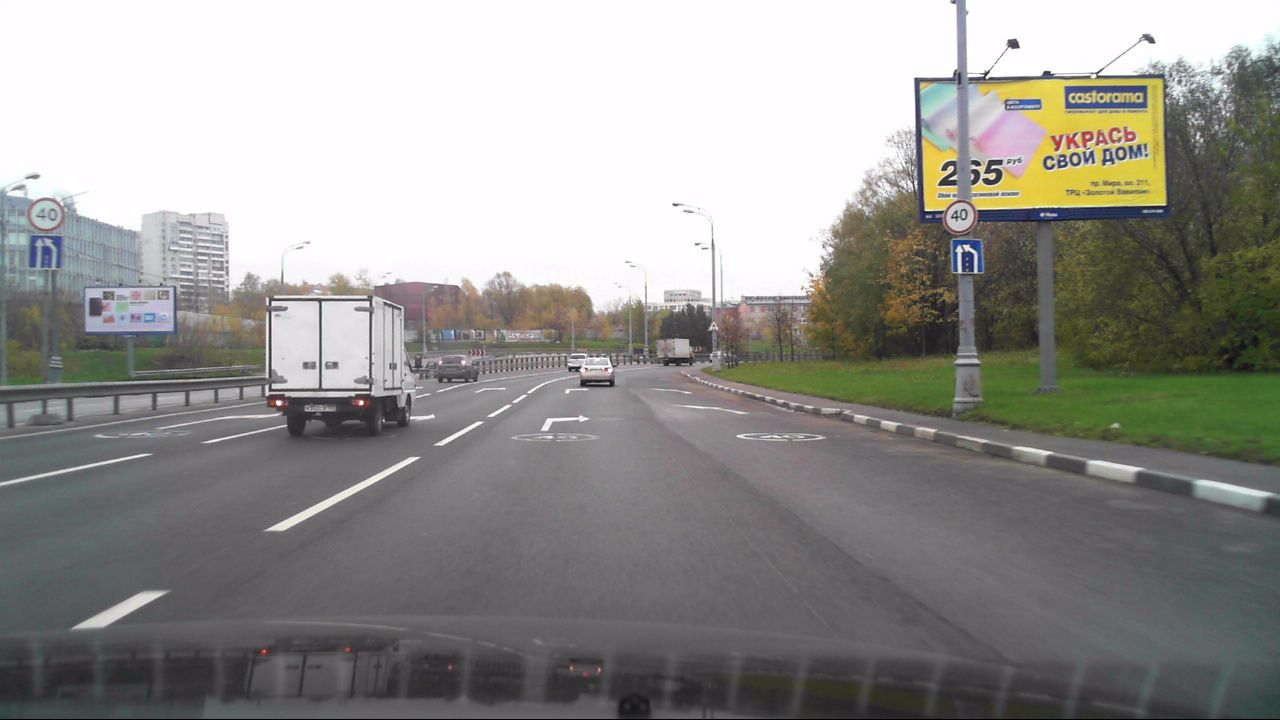speed_warning_40: (943, 198, 976, 235)
